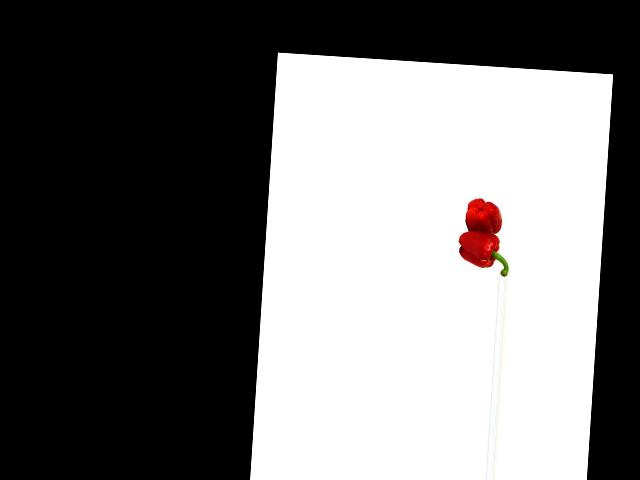bell_pepper: (462, 197, 505, 234)
